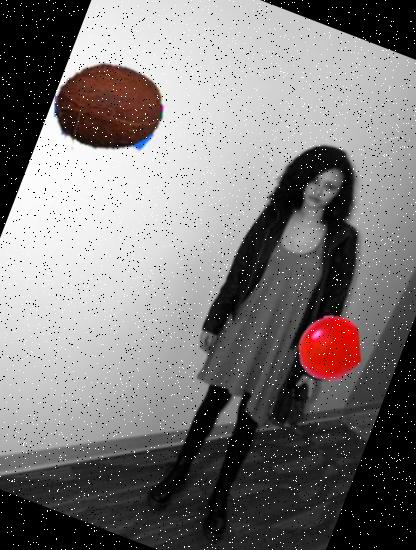Cocos: (38, 42, 179, 182)
Redcurrant: (287, 307, 371, 391)
